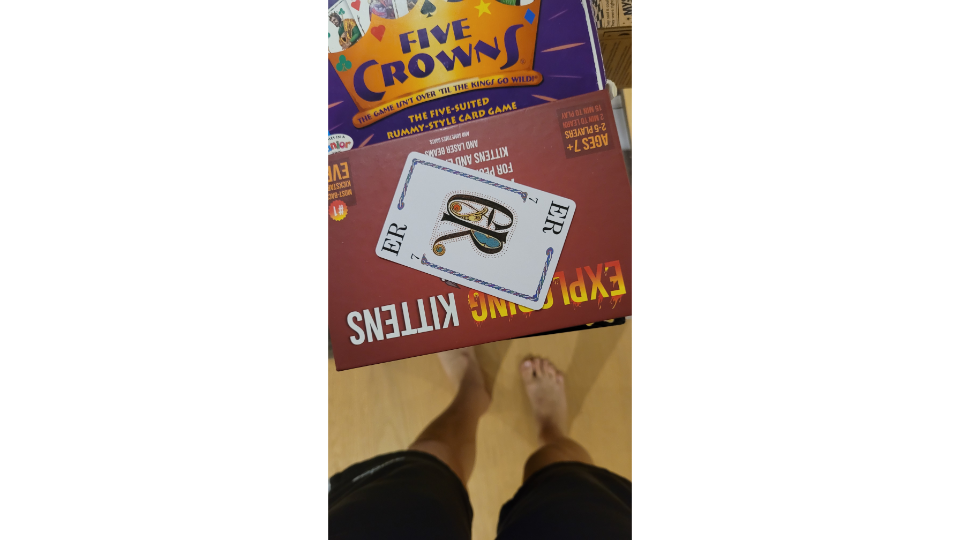ER: (373, 149, 581, 313)
